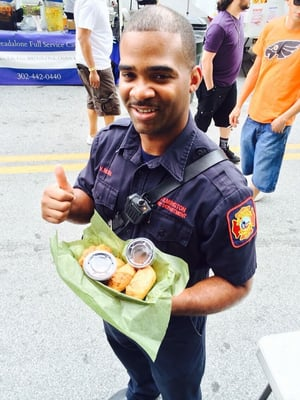pizza: (41, 4, 260, 400), (229, 0, 300, 200), (195, 0, 251, 157), (71, 0, 121, 143)
